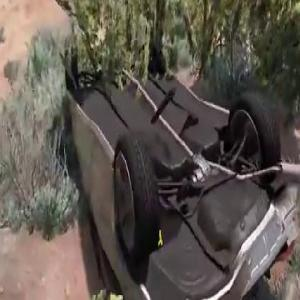critical: (60, 37, 299, 300)
